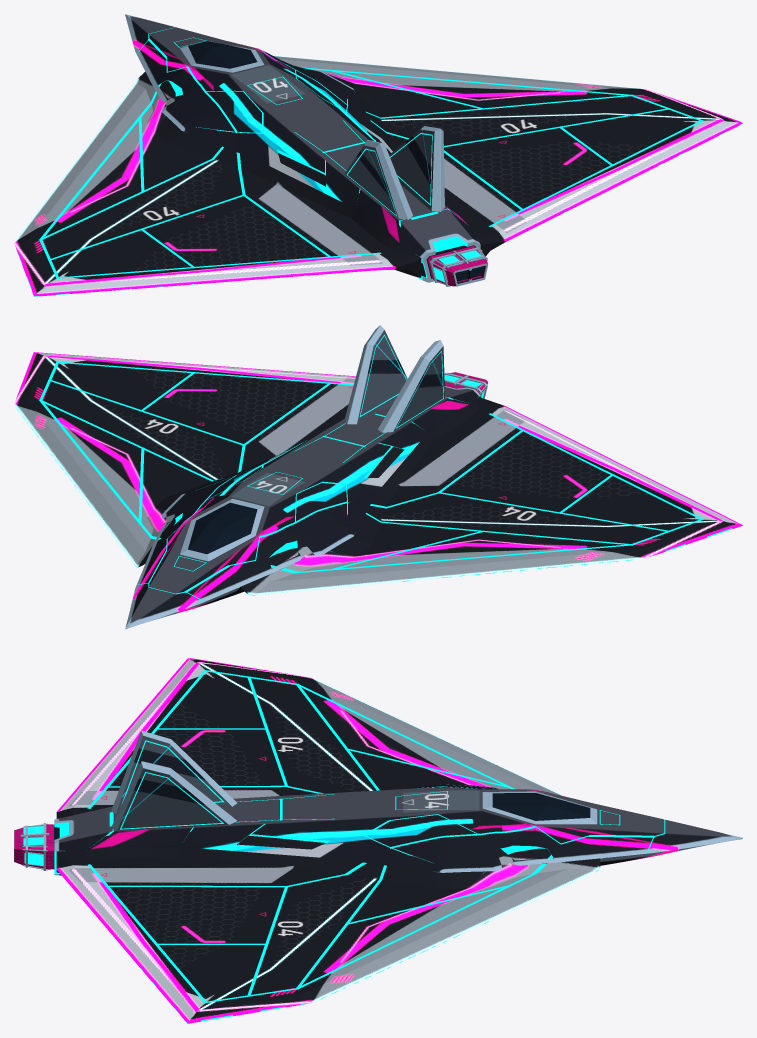
Rendered from neon-black.glb.
The picture shows the model from 3 angles, top to bottom: view 1: azimuth 30°, elevation 25°; view 2: azimuth 150°, elevation 25°; view 3: azimuth 270°, elevation 25°; orthographic projection. The views are drawn at different scales.
Parts seen in each view (by area): view 1: CENTER_AF04_BODY_CENTER, STYLE_A_TWIN_FIN_1, STYLE_A_TWIN_FIN_-1, CENTER_AF04_CANOPY_0, CENTER_AF04_CENTER_CANOPY_FRAME_USER; view 2: CENTER_AF04_BODY_CENTER, STYLE_A_TWIN_FIN_1, STYLE_A_TWIN_FIN_-1, CENTER_AF04_CANOPY_0, CENTER_AF04_CENTER_CANOPY_FRAME_USER; view 3: CENTER_AF04_BODY_CENTER, STYLE_A_TWIN_FIN_1, STYLE_A_TWIN_FIN_-1, CENTER_AF04_CANOPY_0, CENTER_AF04_CENTER_CANOPY_FRAME_USER.
Boxes of the visible parts, x1,y1,x2,y2 form: CENTER_AF04_BODY_CENTER: (14, 14, 742, 296); STYLE_A_TWIN_FIN_1: (389, 126, 444, 212); STYLE_A_TWIN_FIN_-1: (344, 140, 412, 219); CENTER_AF04_CANOPY_0: (188, 41, 257, 68); CENTER_AF04_CENTER_CANOPY_FRAME_USER: (180, 41, 264, 72); CENTER_AF04_BODY_CENTER: (14, 352, 742, 629); STYLE_A_TWIN_FIN_1: (344, 325, 407, 424); STYLE_A_TWIN_FIN_-1: (378, 340, 444, 432); CENTER_AF04_CANOPY_0: (188, 502, 257, 554); CENTER_AF04_CENTER_CANOPY_FRAME_USER: (180, 498, 264, 561); CENTER_AF04_BODY_CENTER: (54, 658, 742, 1023); STYLE_A_TWIN_FIN_1: (111, 761, 236, 830); STYLE_A_TWIN_FIN_-1: (111, 730, 236, 813); CENTER_AF04_CANOPY_0: (492, 793, 590, 820); CENTER_AF04_CENTER_CANOPY_FRAME_USER: (482, 791, 597, 824).
Bounding box in the file's own units: 15.89 × 2.51 × 13.42.
Materials: 12 (3 with a texture image).
